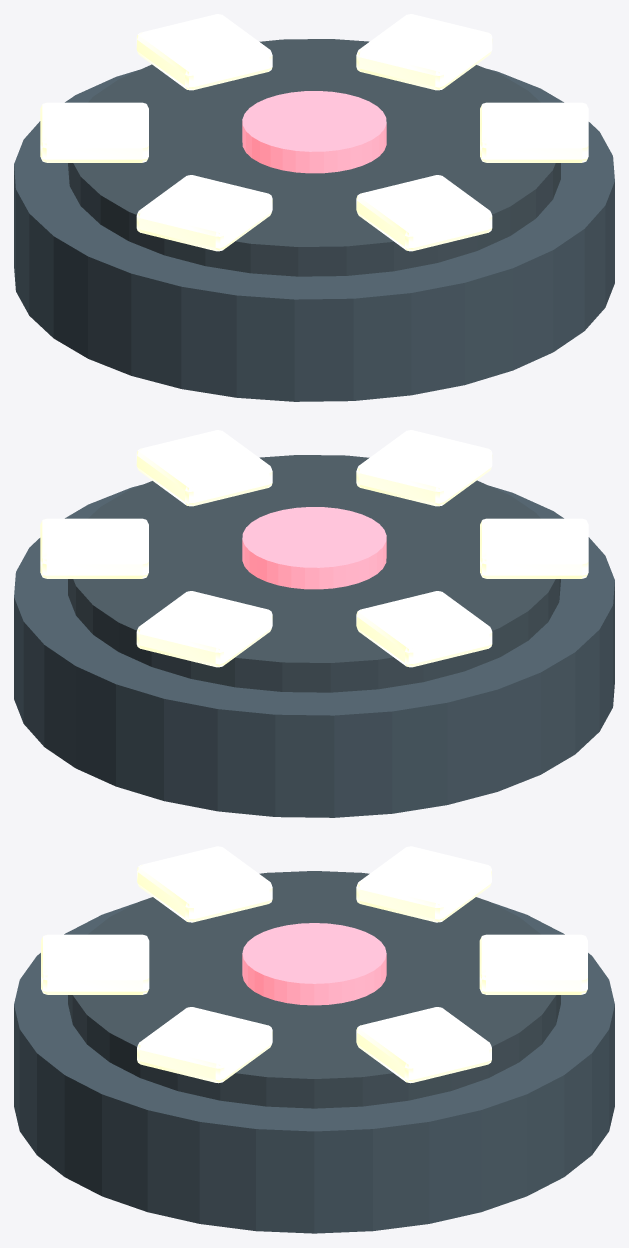
The model's file is mine.glb.
3 renders of one model, top to bottom at view 1: azimuth 30°, elevation 25°; view 2: azimuth 150°, elevation 25°; view 3: azimuth 270°, elevation 25°, orthographic.
Parts seen in each view (by area): view 1: mine / body / mine dark structure, mine / body / Titanium recess, mine / body / mine emissive insert, mine / body / mine identity light; view 2: mine / body / mine dark structure, mine / body / Titanium recess, mine / body / mine emissive insert, mine / body / mine identity light; view 3: mine / body / mine dark structure, mine / body / Titanium recess, mine / body / mine emissive insert, mine / body / mine identity light.
Part boxes in pixels (x1=…): mine / body / mine dark structure: x1=14, y1=69, x2=614, y2=401; mine / body / Titanium recess: x1=68, y1=39, x2=560, y2=276; mine / body / mine emissive insert: x1=40, y1=14, x2=588, y2=251; mine / body / mine identity light: x1=242, y1=91, x2=386, y2=173; mine / body / mine dark structure: x1=14, y1=485, x2=614, y2=817; mine / body / Titanium recess: x1=68, y1=455, x2=560, y2=692; mine / body / mine emissive insert: x1=40, y1=430, x2=588, y2=667; mine / body / mine identity light: x1=242, y1=507, x2=386, y2=589; mine / body / mine dark structure: x1=14, y1=902, x2=614, y2=1233; mine / body / Titanium recess: x1=68, y1=871, x2=560, y2=1108; mine / body / mine emissive insert: x1=41, y1=846, x2=587, y2=1083; mine / body / mine identity light: x1=242, y1=923, x2=386, y2=1005.
Size of the model in its own units: 24 by 6.75 by 24.
